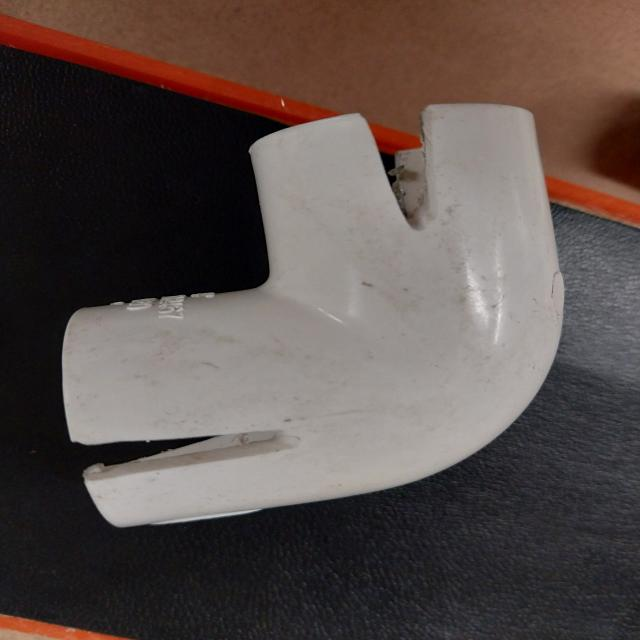Defective: (60, 103, 566, 531), (73, 431, 301, 497), (368, 115, 430, 230)
